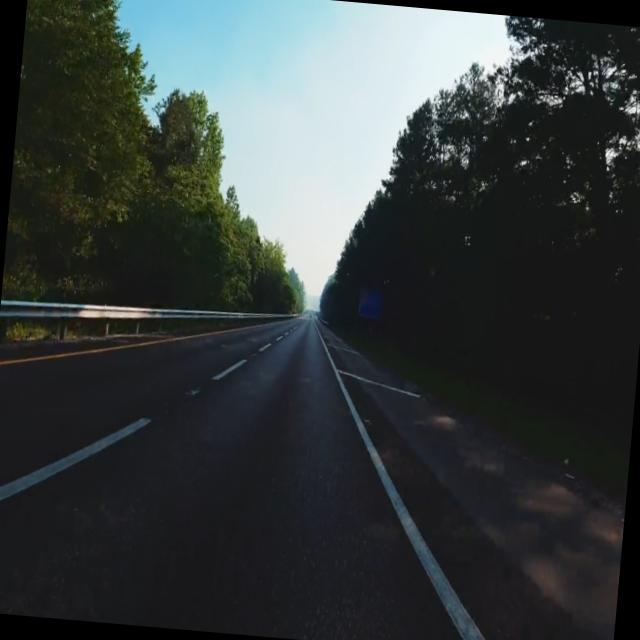asphalt: (0, 318, 461, 640)
